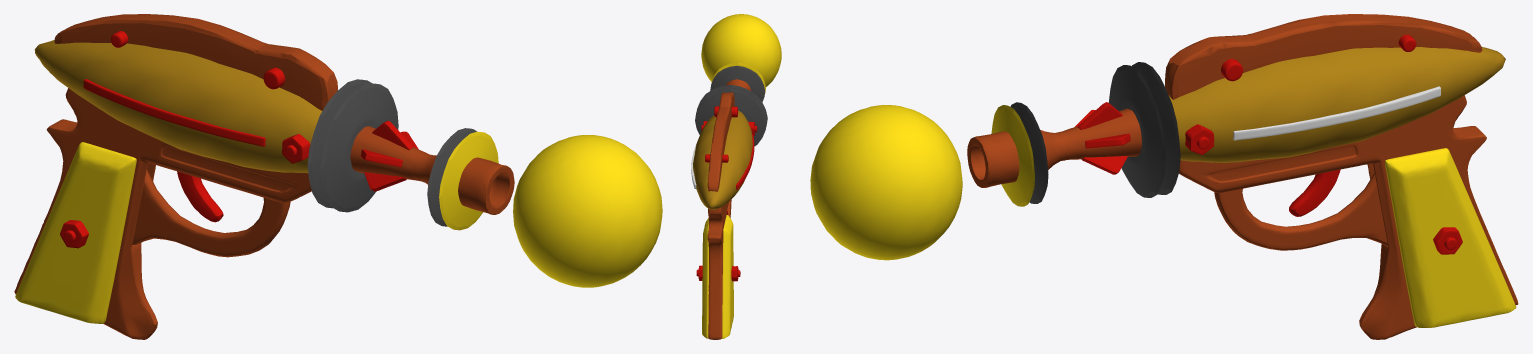
3 views of the same model, side by side, from view 1: azimuth 30°, elevation 25°; view 2: azimuth 150°, elevation 25°; view 3: azimuth 270°, elevation 25° (orthographic). The views are drawn at different scales.
Visible parts, largest first — view 1: body, Sphere.001, grip, handle.001, top_fin, Dishes_2, trigger_guard, Dishes_1, mouth, nozel, side_stripe_1, Dish (+6 smaller); view 2: Sphere.001, body, grip, handle.001, Dish, top_fin, Dish_2, Dishes_2, Dishes_1, side_stripe_1, bolt, nozel (+4 smaller); view 3: body, Sphere.001, grip, handle.001, top_fin, trigger_guard, Dishes_2, nozel, mouth, side_stripe_2, Dishes_1, Dish (+6 smaller).
Boxes of the visible parts, x1,y1,x2,y2 form: body: (34, 40, 322, 173); Sphere.001: (513, 135, 662, 287); grip: (15, 142, 136, 323); handle.001: (14, 88, 311, 339); top_fin: (54, 14, 337, 110); Dishes_2: (320, 83, 398, 212); trigger_guard: (132, 169, 290, 257); Dishes_1: (439, 131, 498, 230); mouth: (458, 157, 514, 214); nozel: (350, 126, 436, 184); side_stripe_1: (83, 79, 265, 146); Dish: (307, 79, 371, 208); Sphere.001: (701, 14, 781, 86); body: (693, 110, 752, 209); grip: (702, 215, 733, 338); handle.001: (707, 202, 728, 339); Dish: (695, 88, 766, 146); top_fin: (707, 92, 734, 191); Dish_2: (710, 65, 765, 101); Dishes_2: (696, 85, 767, 126); Dishes_1: (711, 62, 765, 93); side_stripe_1: (736, 134, 754, 189); bolt: (698, 265, 738, 281); nozel: (725, 79, 750, 90); body: (1168, 47, 1505, 162); Sphere.001: (810, 105, 962, 260); grip: (1385, 148, 1516, 327); handle.001: (1179, 95, 1518, 339); top_fin: (1165, 14, 1482, 99); trigger_guard: (1214, 173, 1387, 250); Dishes_2: (1108, 65, 1165, 197); nozel: (1040, 108, 1141, 169); mouth: (967, 131, 1019, 187); side_stripe_2: (1233, 86, 1440, 140); Dishes_1: (991, 105, 1034, 206); Dish: (1132, 62, 1180, 194).
Bounding box in the file's own units: 43.56 × 77.75 × 40.45.
